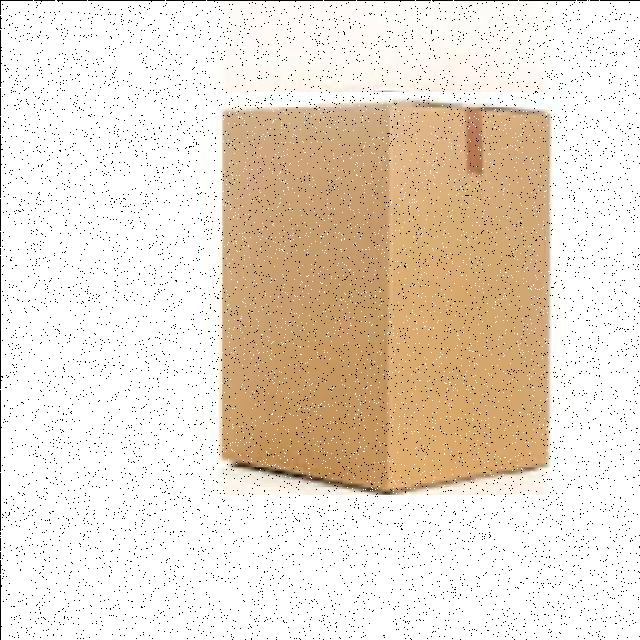normal: (208, 91, 560, 494)
